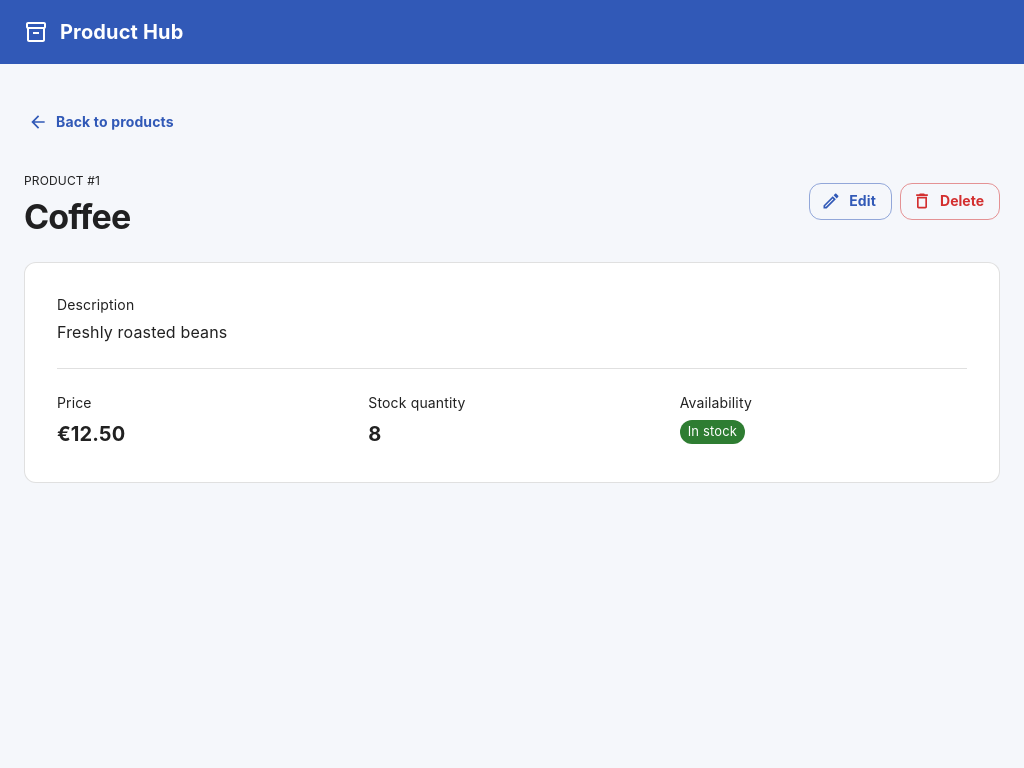
Test: product mutations › cancels and then confirms product deletion
This screenshot has width=1024, height=768.
Expected: the heading "Coffee" is shown, [24,196,130,238]
Click the button "Delete". click: (950, 201)
box: [900,183,1000,220]
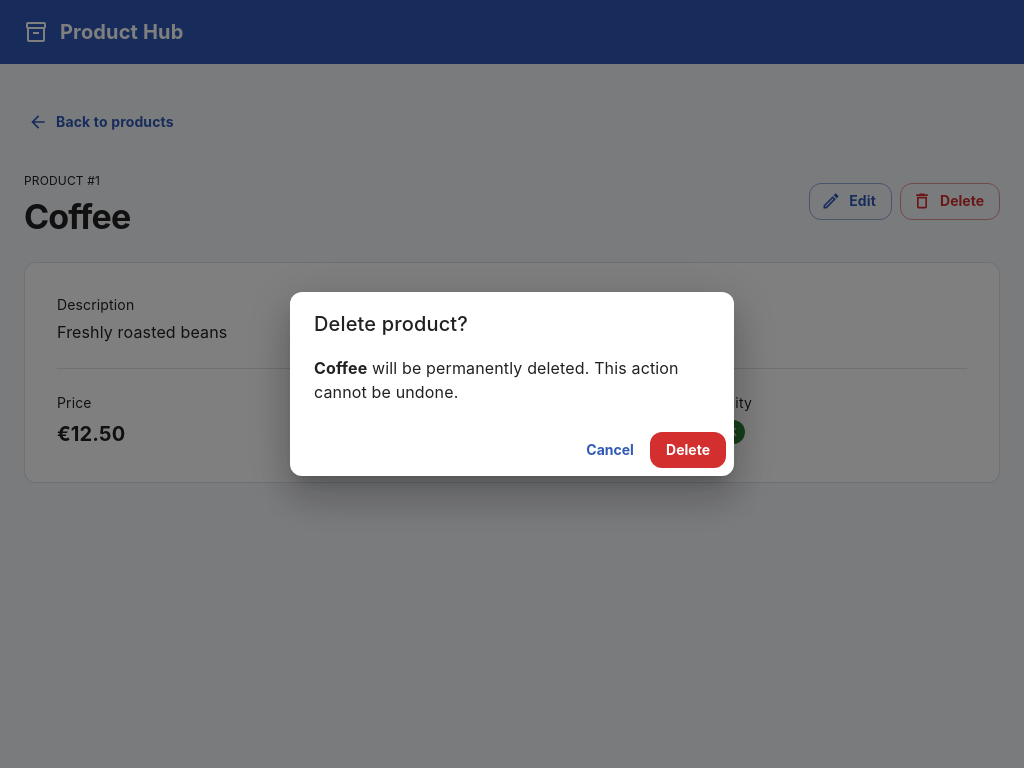
Result: the text "Coffee" is shown at [314,358,367,378]
Click the button "Cancel". click: (610, 450)
box: [578,432,642,468]
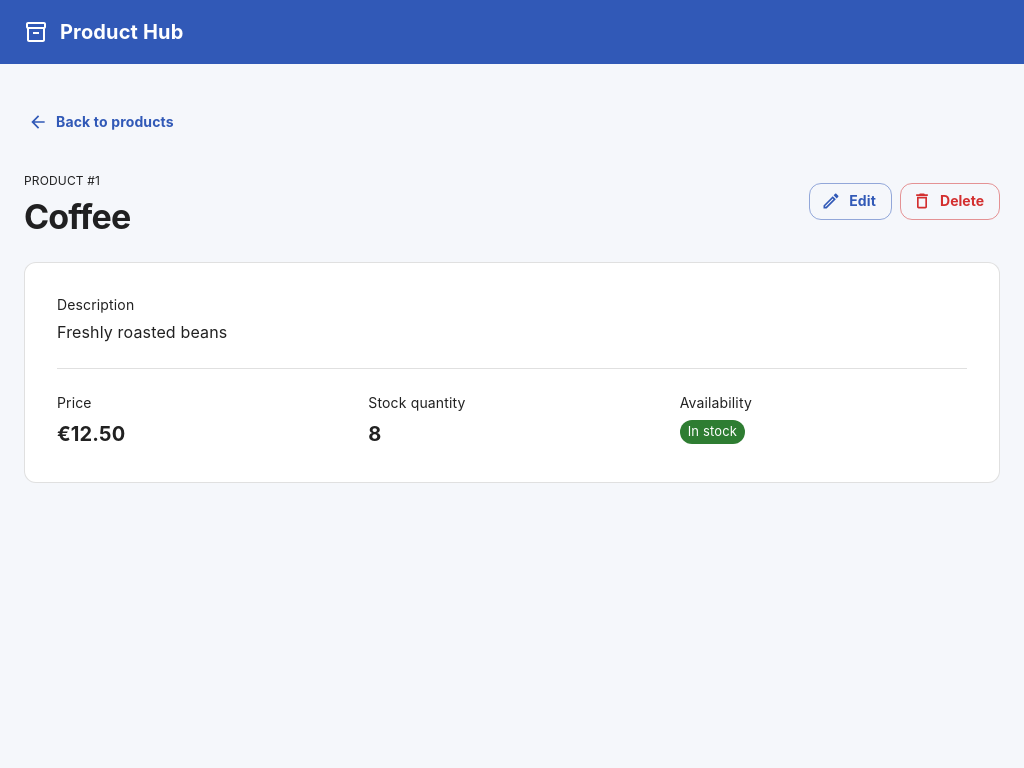
Result: the heading "Delete product?" is gone
Click the button "Delete". click: (950, 201)
box: [900,183,1000,220]
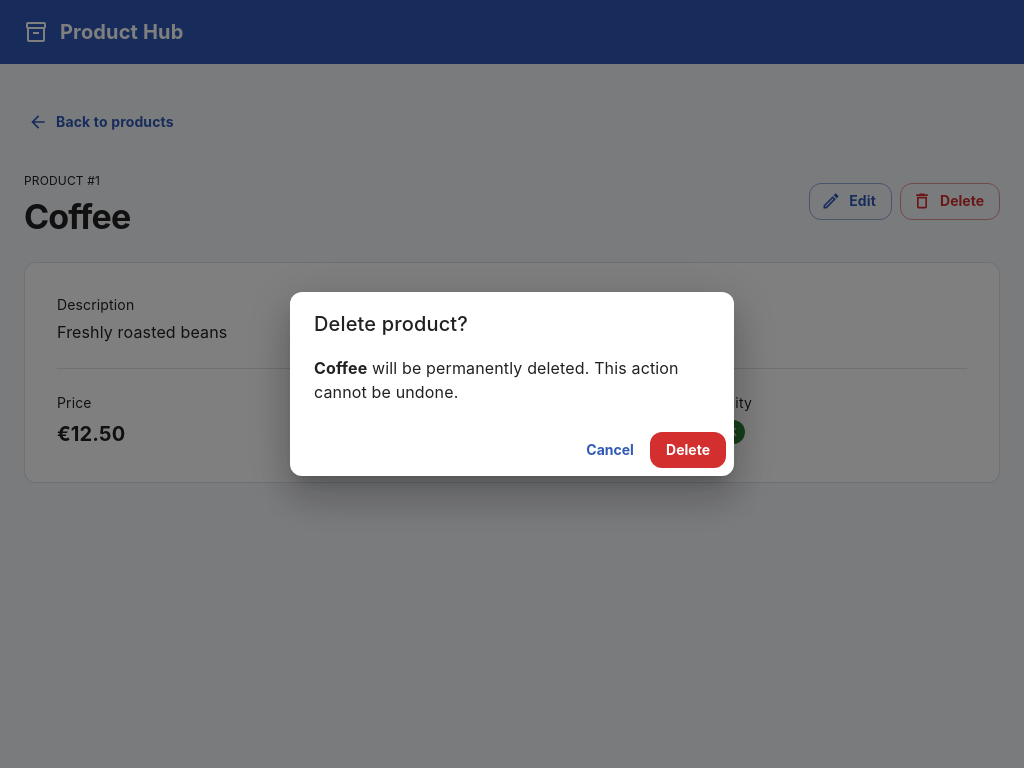
Click the button "Delete". click: (688, 450)
box: [650,432,726,468]
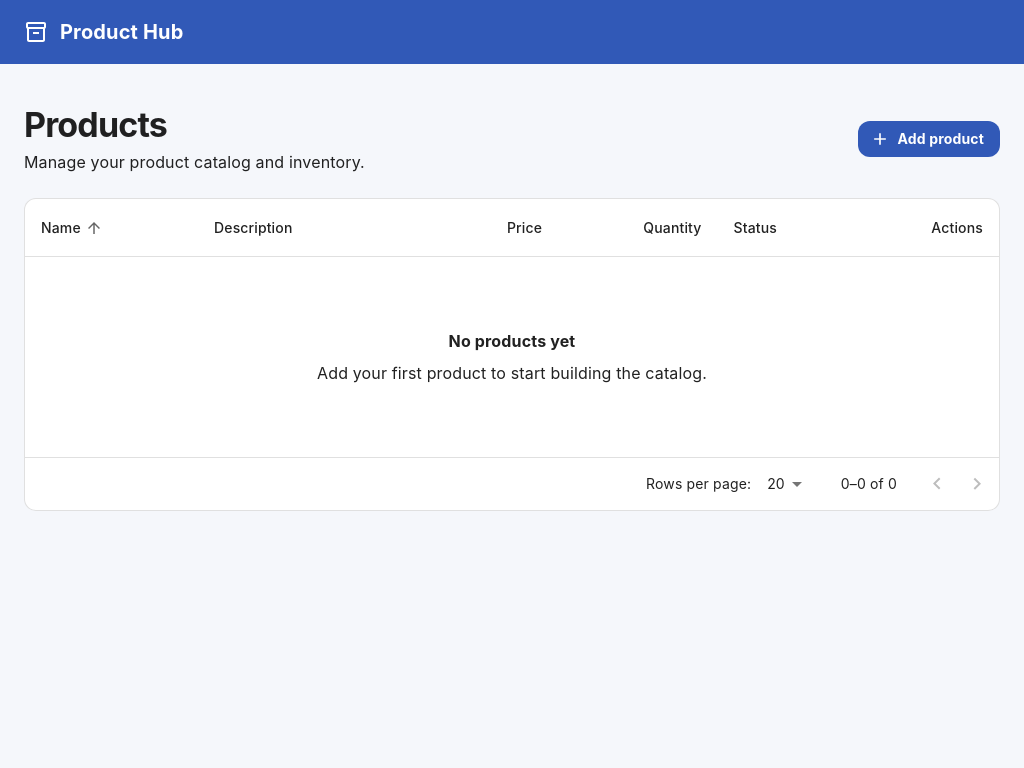
Result: the heading "Products" is shown at [24,104,167,145]
